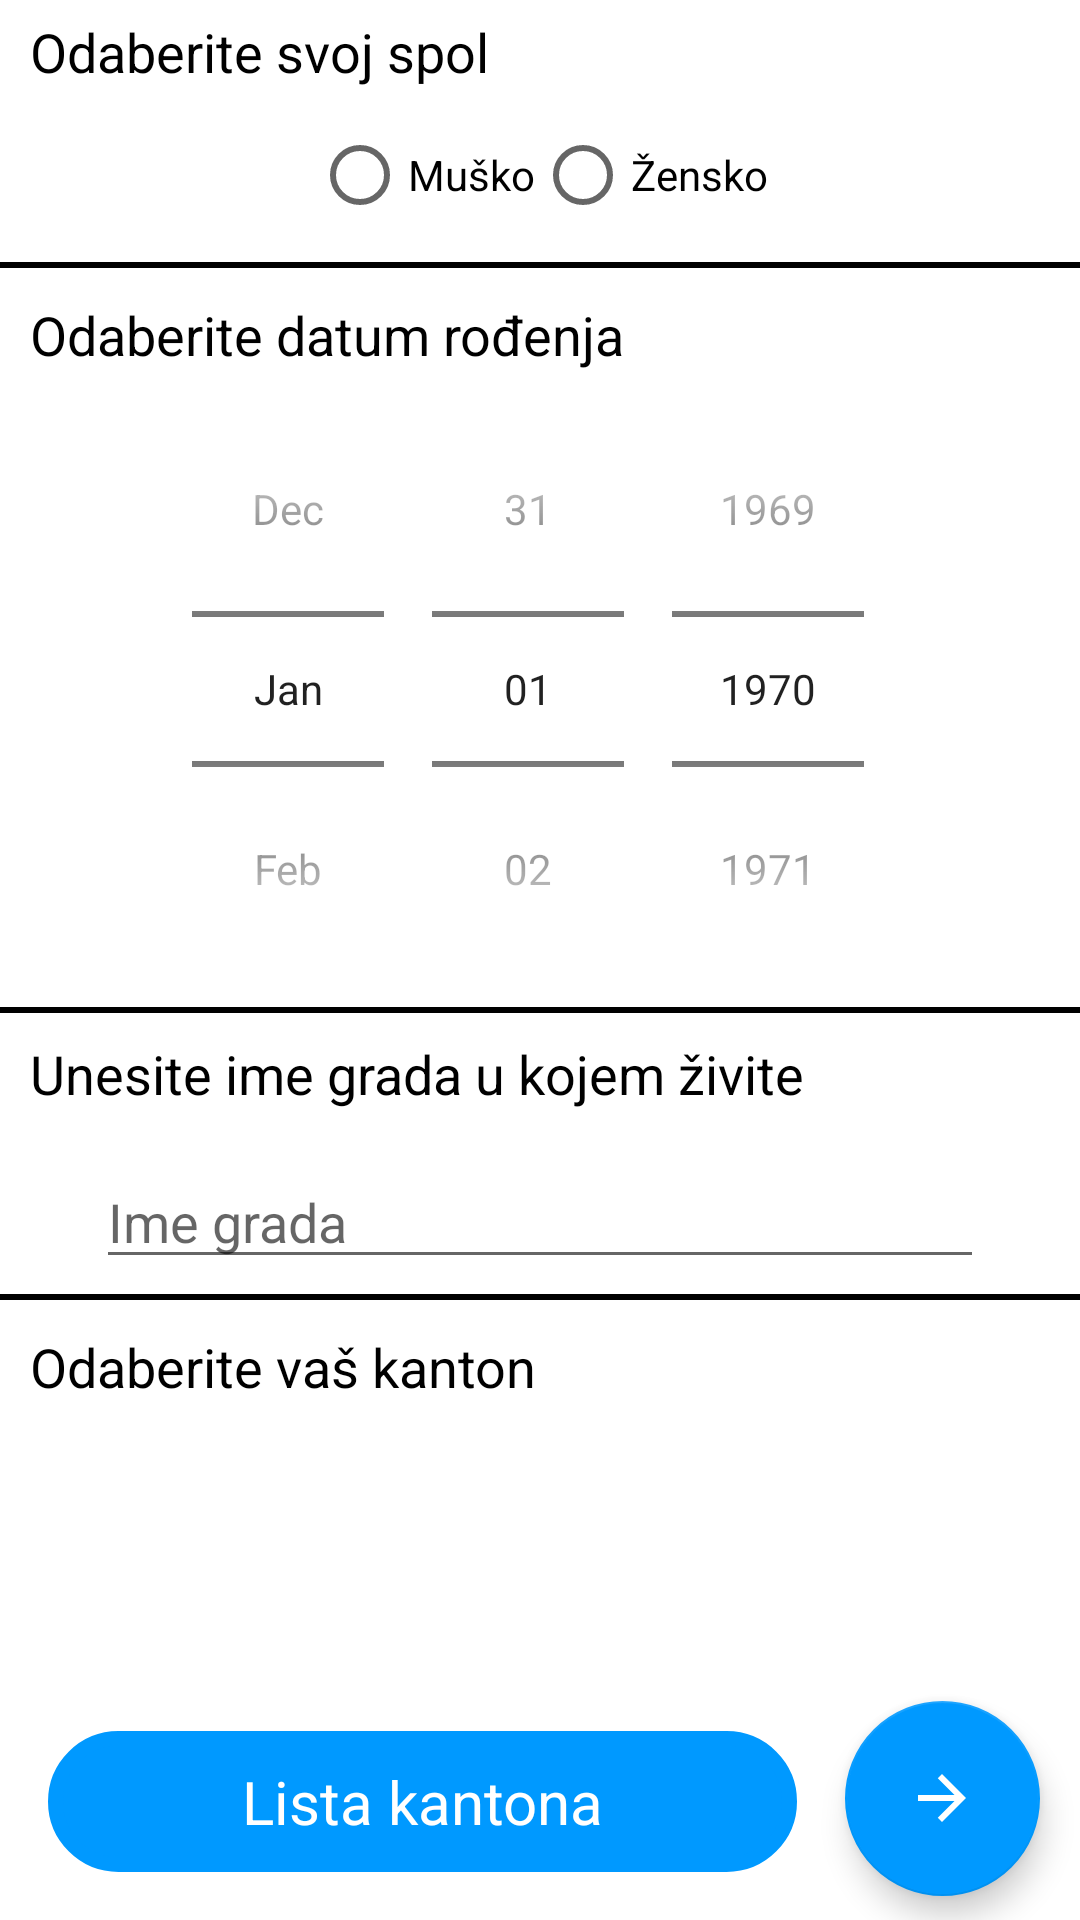

Icon bounding boxes for this 1080*1920 phone screenshot, format (x1, y1, x2, y2):
arrow forward: (845, 1701, 1040, 1896)
